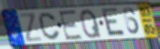6: (122, 7, 140, 36)
C: (38, 12, 62, 42)
E: (58, 9, 84, 41), (101, 7, 127, 37)
Q: (79, 8, 103, 40)
Z: (18, 12, 44, 43)
